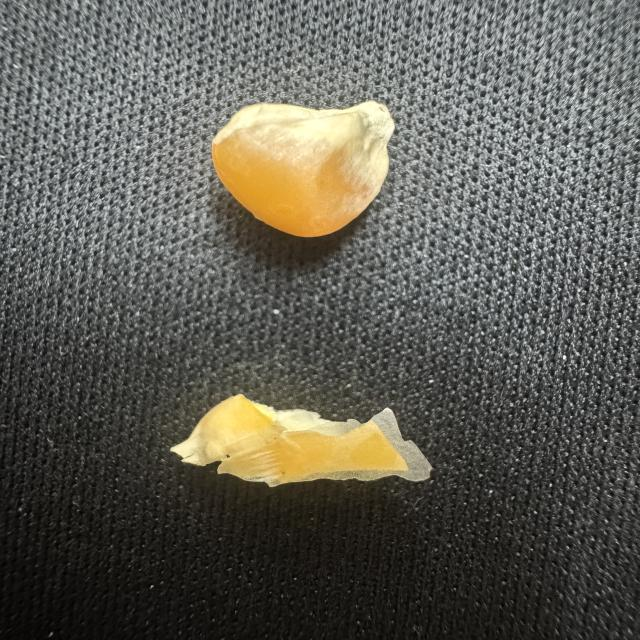Bad-Seed: (170, 380, 438, 500), (199, 92, 411, 243)
